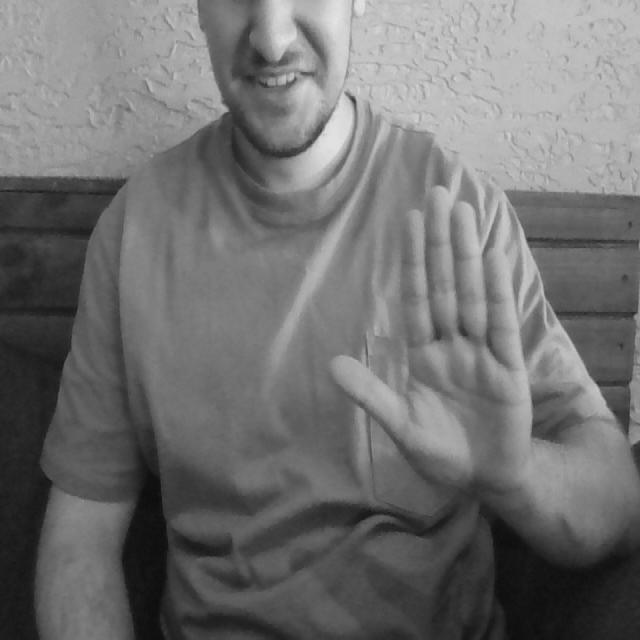Dur: (326, 161, 557, 518)
